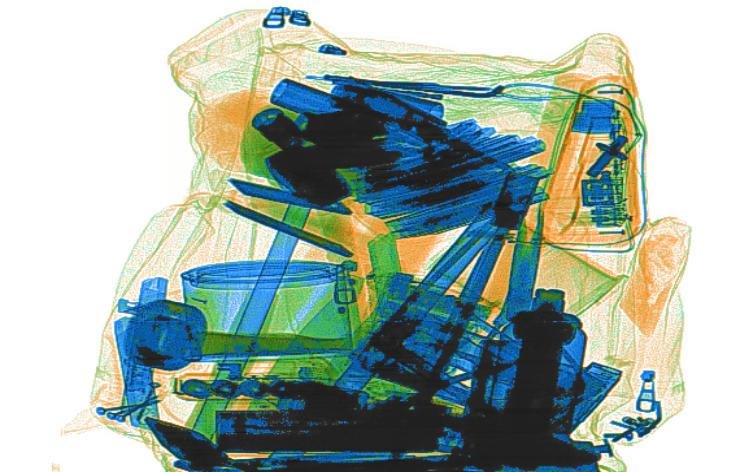knife: (118, 275, 169, 426), (111, 313, 164, 430), (226, 176, 354, 215)
scissors: (434, 206, 591, 429)
